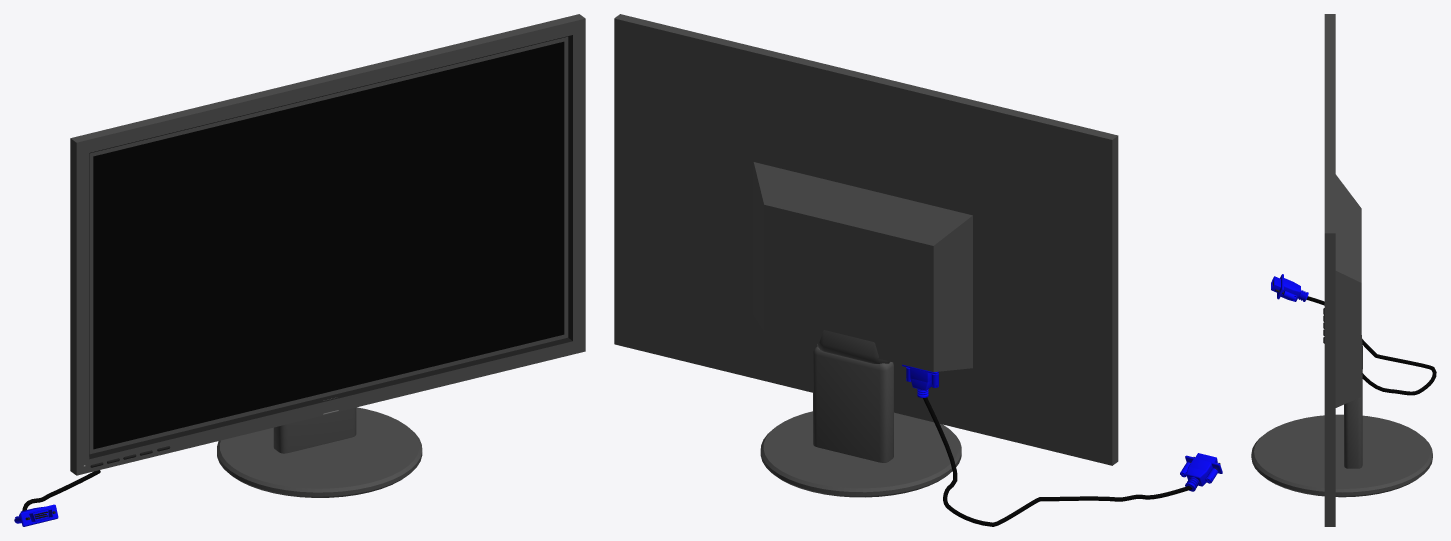
File: monitor.FBX
The picture shows the model from 3 angles, left to right: view 1: azimuth 30°, elevation 25°; view 2: azimuth 150°, elevation 25°; view 3: azimuth 270°, elevation 25°; orthographic projection. The views are drawn at different scales.
Parts seen in each view (by area): view 1: Box001, ChamferCyl001, ChamferBox007; view 2: Box001, ChamferCyl001, ChamferBox007, Line001, ChamferBox010; view 3: Box001, ChamferCyl001, ChamferBox007, Line001, ChamferBox010.
Boxes of the visible parts, left/top/right/bottom form: Box001: left=70, top=14, right=585, bottom=475; ChamferCyl001: left=217, top=407, right=422, bottom=497; ChamferBox007: left=273, top=407, right=356, bottom=453; Box001: left=614, top=14, right=1118, bottom=465; ChamferCyl001: left=760, top=411, right=961, bottom=497; ChamferBox007: left=813, top=330, right=893, bottom=462; Line001: left=923, top=397, right=1192, bottom=526; ChamferBox010: left=1185, top=453, right=1222, bottom=491; Box001: left=1324, top=14, right=1361, bottom=526; ChamferCyl001: left=1251, top=414, right=1432, bottom=497; ChamferBox007: left=1344, top=335, right=1362, bottom=468; Line001: left=1306, top=296, right=1436, bottom=395; ChamferBox010: left=1271, top=274, right=1308, bottom=301.
Bounding box in the file's own units: 46.3 × 28.69 × 14.28.
